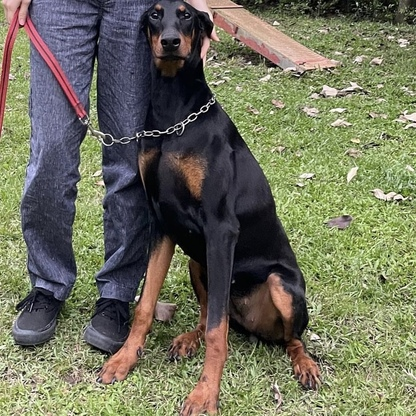doberman: (130, 6, 327, 412)
